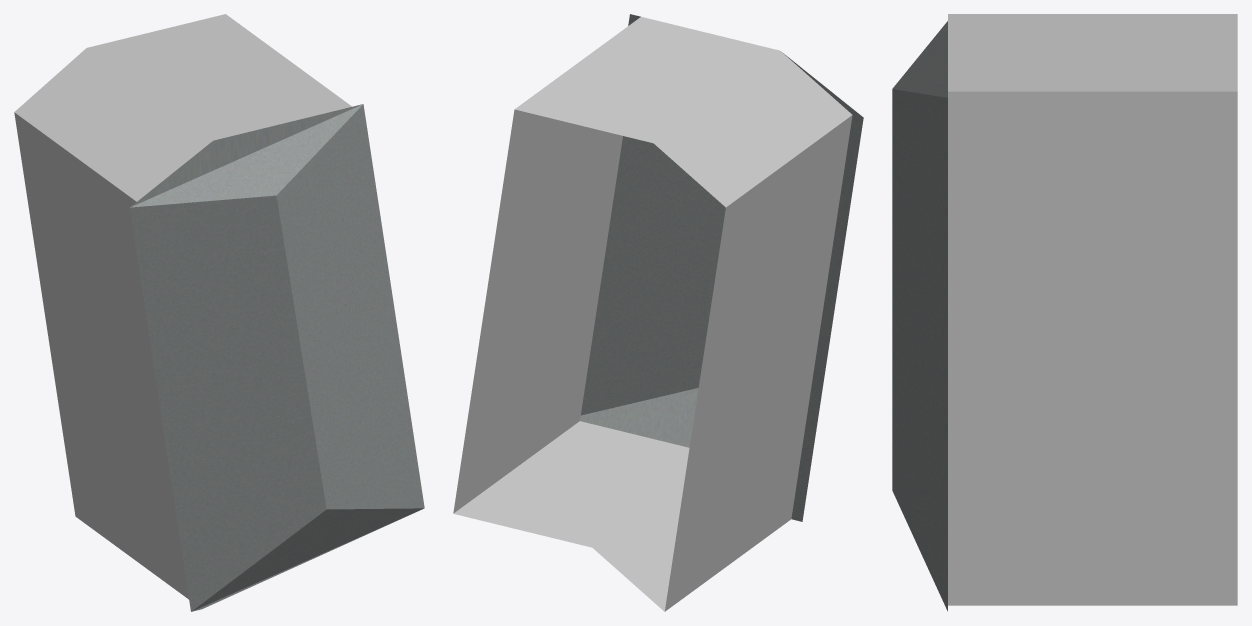
The model's file is Suur-Kloostri_7_2-origo.obj.
3 views of the same model, side by side, from view 1: azimuth 30°, elevation 25°; view 2: azimuth 150°, elevation 25°; view 3: azimuth 270°, elevation 25° (orthographic). The views are drawn at different scales.
Parts seen in each view (by area): view 1: Box001; view 2: Box001; view 3: Box001.
Boxes of the visible parts, x1,y1,x2,y2 form: Box001: (14, 14, 424, 611); Box001: (453, 14, 863, 611); Box001: (892, 14, 1237, 611).
Size of the model in its own units: 3.31 by 5 by 2.94.
